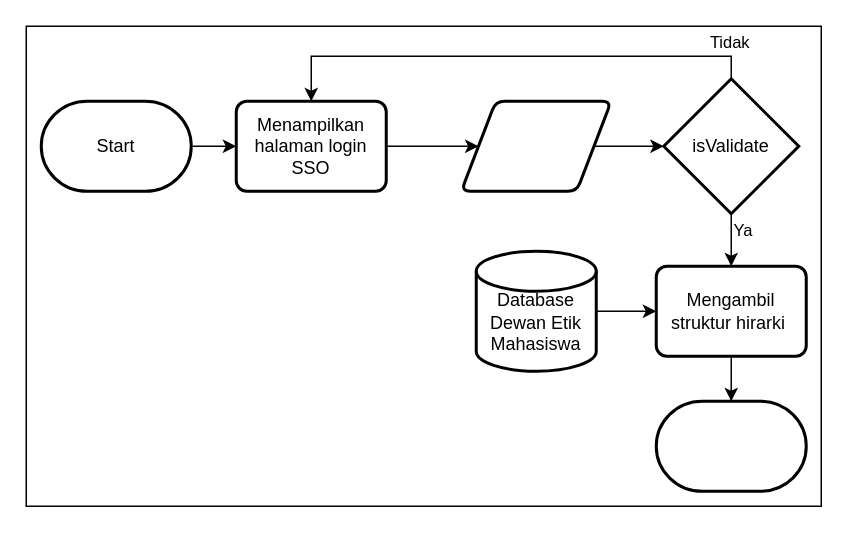
Image size: 848x533. Some labels were removed from this diagram. Here are the shapes that lost their labels. From the top down, the centre of each, then its label:
(x=535, y=145): Input data SSO
(x=730, y=445): End
